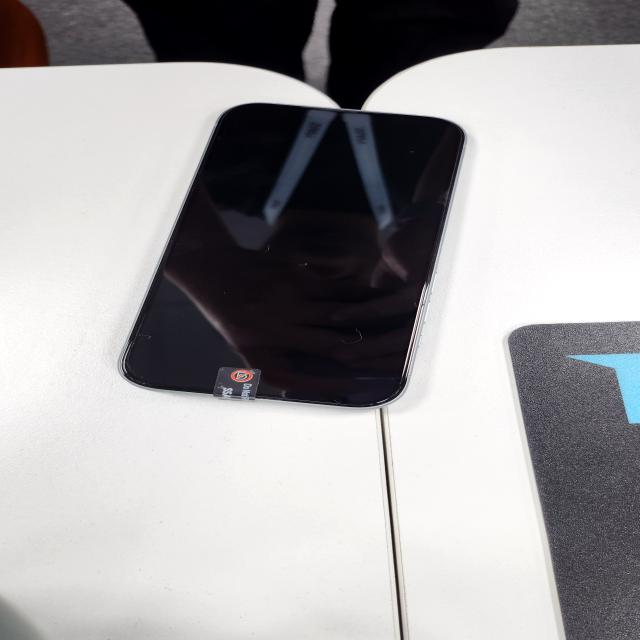phone: (114, 98, 468, 408)
sticker: (212, 364, 264, 402)
